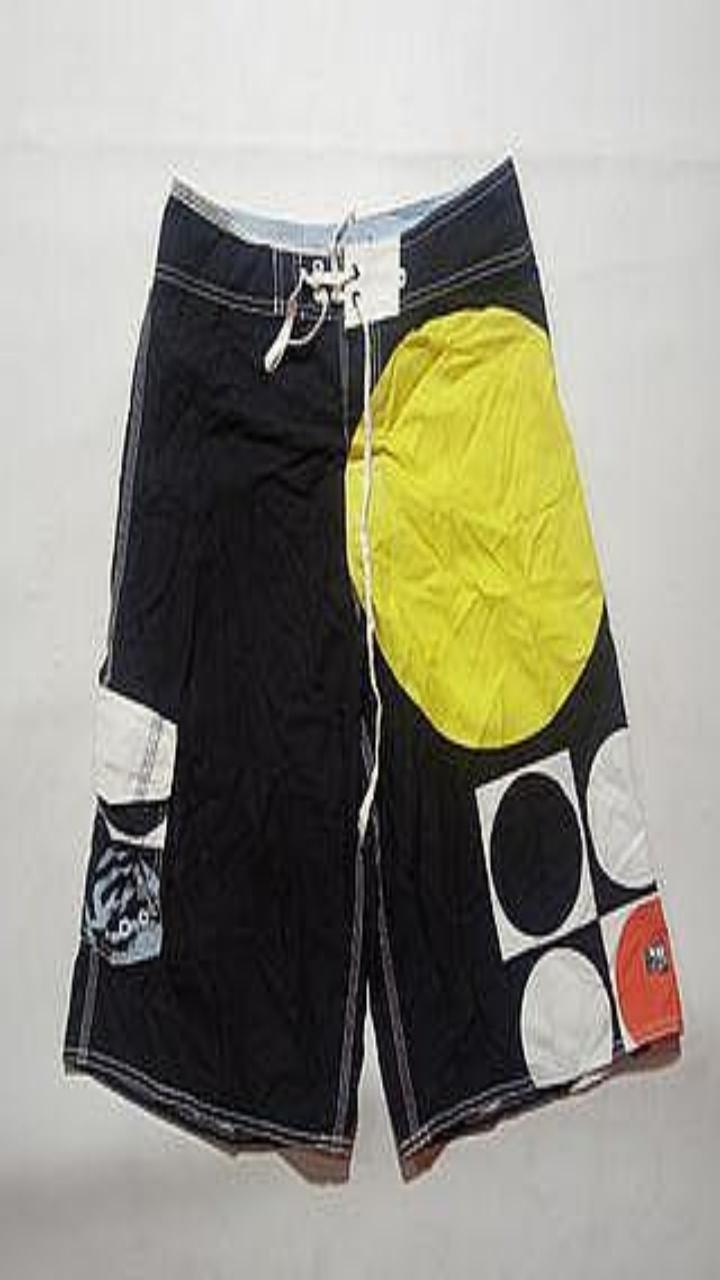Shorts: (63, 158, 681, 1161)
